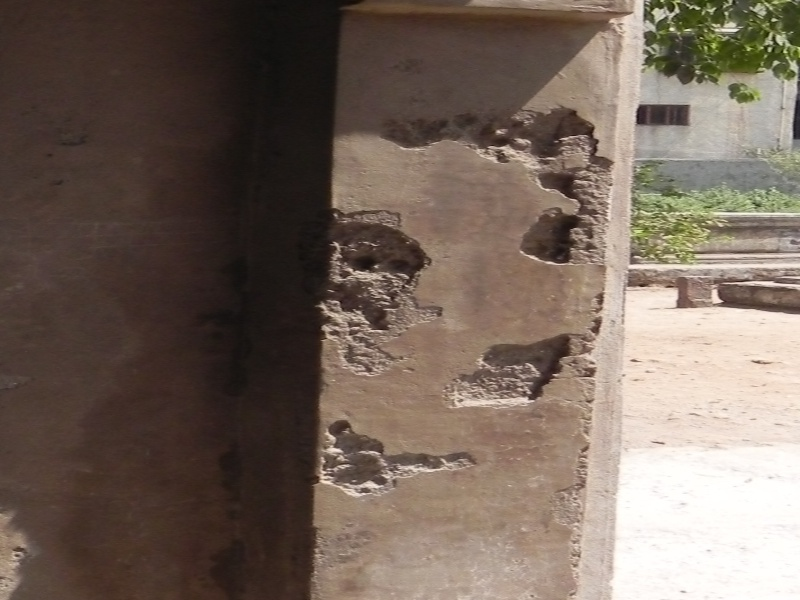Spalling: (297, 200, 431, 385), (386, 99, 612, 172), (321, 413, 477, 498), (514, 173, 621, 263), (443, 331, 563, 408)
